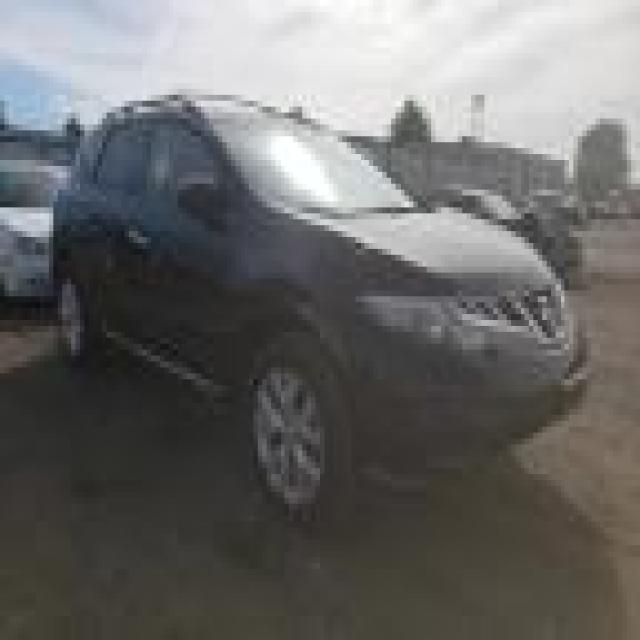minor: (346, 244, 440, 307)
